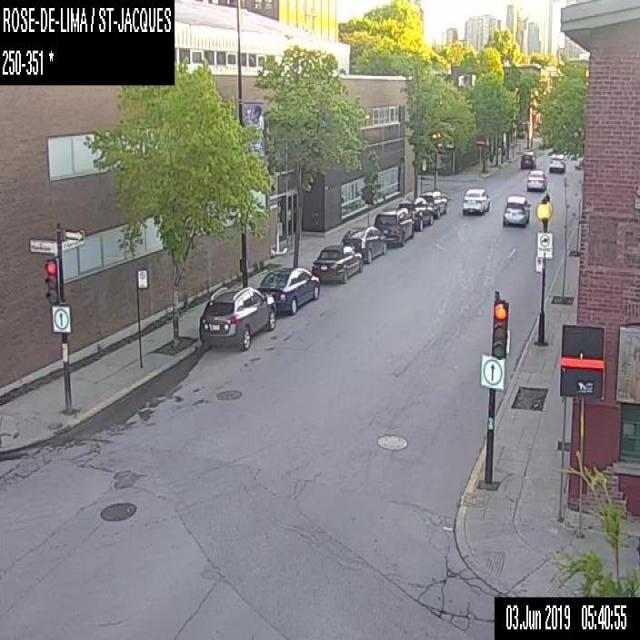vehicle: (198, 282, 275, 348), (258, 268, 321, 314), (312, 245, 362, 282), (343, 225, 389, 258), (374, 207, 413, 242), (399, 194, 434, 230), (501, 193, 531, 226), (462, 187, 490, 214), (420, 189, 446, 217), (524, 168, 547, 190), (518, 150, 536, 170), (547, 152, 565, 172)
